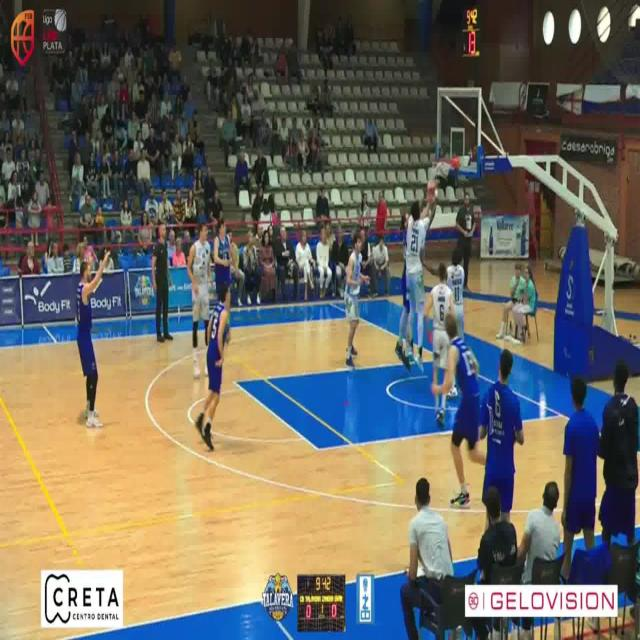ball: (427, 179, 438, 199)
basket: (429, 152, 460, 185)
bench person: (480, 348, 525, 522), (563, 376, 599, 582), (601, 360, 640, 544)
player: (433, 313, 486, 508), (404, 181, 437, 370), (76, 249, 110, 428), (195, 283, 230, 450), (187, 221, 211, 378), (426, 262, 455, 384), (345, 229, 370, 367), (395, 212, 411, 370), (447, 246, 465, 337), (213, 217, 230, 298)
referee: (151, 225, 173, 342)
